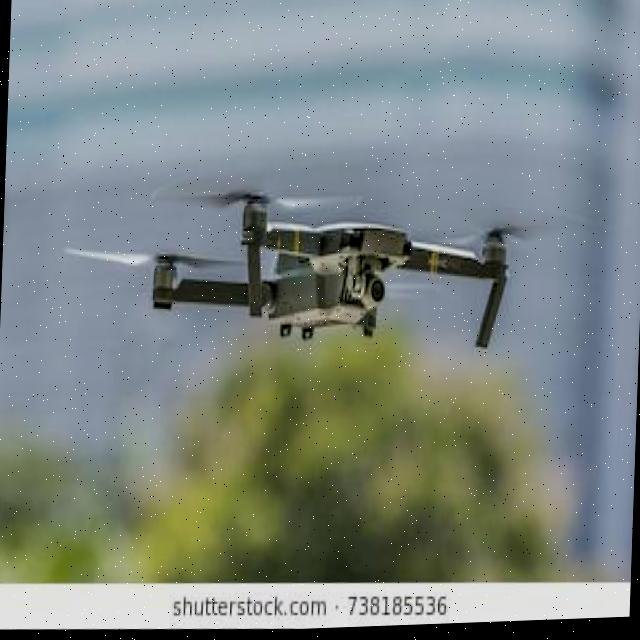drone: (46, 134, 602, 391)
